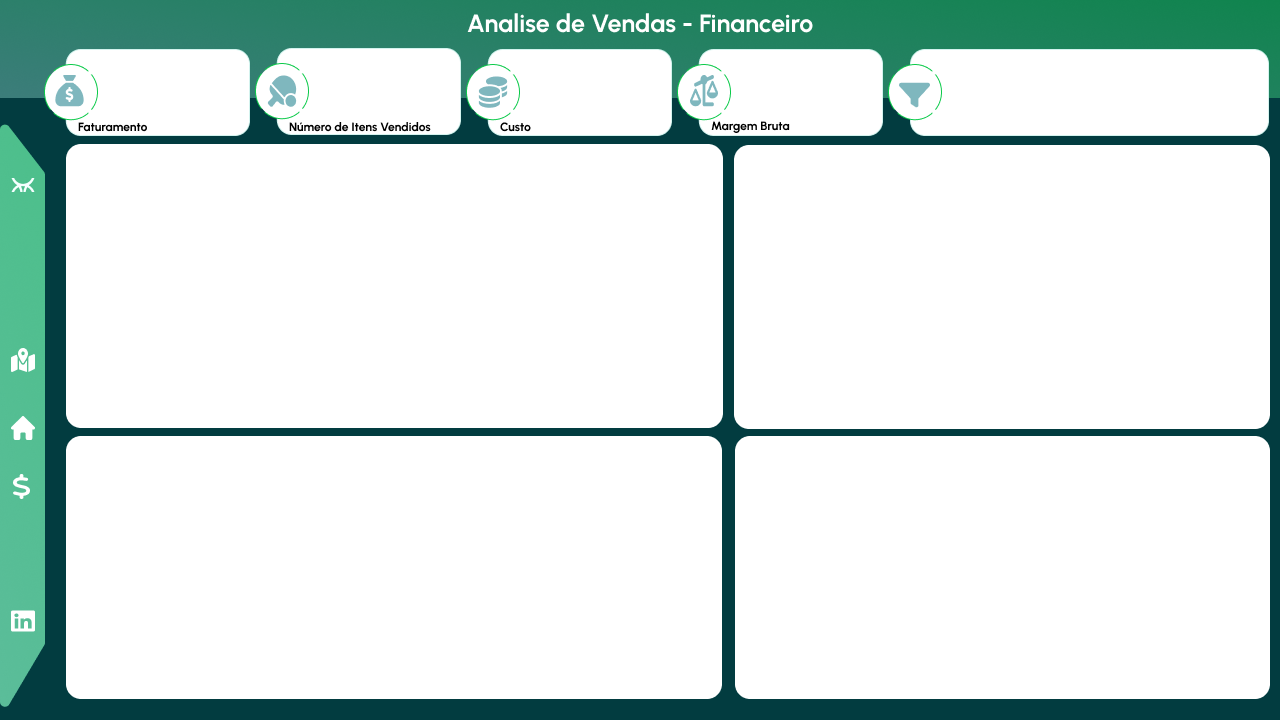

The page's visual inventory and layout, read from the dashboard file:
{"tool":"powerbi","page":{"name":"Financeiro","canvas":[1280,720],"ordinal":1},"visuals":[{"type":"clusteredBarChart","title":"Faturamento por Produto","fields":{"Category":["dProduto.CategoriaProduto.CategoriaNome"],"Y":["Medidas.$ Faturamento"]},"box":[734,435,537,262],"z":0},{"type":"columnChart","title":"Faturamento por Segmento","fields":{"Category":["fVendas.Segmento"],"Y":["Medidas.$ Faturamento"]},"box":[734,145,546,282],"z":1000},{"type":"lineChart","fields":{"Category":["dCalendario.MesAbre"],"Y":["Medidas.$ Faturamento","Medidas.$ Faturamento do Ano Anterior"]},"box":[64,145,661,282],"z":2000},{"type":"slicer","fields":{"Values":["dCalendario.Ano"]},"box":[933.1,45.9,337.9,38],"z":3000},{"type":"card","fields":{"Values":["Medidas.$ Faturamento"]},"box":[84,46,165,76],"z":4000},{"type":"card","fields":{"Values":["Medidas.# Itens Vendidos"]},"box":[286,46,175,76],"z":5000},{"type":"card","fields":{"Values":["Medidas.$ Custo"]},"box":[509,46,164,76],"z":6000},{"type":"card","fields":{"Values":["Medidas.% Margem Bruta"]},"box":[714,51,169,66],"z":7000},{"type":"pivotTable","fields":{"Rows":["dCalendario.NomeMes"],"Columns":["fVendas.Regiao"],"Values":["Medidas.$ Faturamento"]},"box":[64,435,650,262],"z":8000},{"type":"actionButton","box":[0,406.7,44.4,40.6],"z":9000},{"type":"actionButton","box":[0,340,44.4,39.6],"z":10000},{"type":"actionButton","box":[0,598.9,44.4,39.6],"z":11000},{"type":"actionButton","box":[0,161.3,44.4,39.6],"z":12000},{"type":"slicer","fields":{"Values":["fVendas.Regiao"]},"box":[949.9,83.9,312.2,52.6],"z":13000}]}

Visuals, with their boxes on the page's 1280x720 design canvas (x1, y1, x2, y2). These are canvas units, not pixel positions in the 1280x720 screenshot, which may show the page scaled, cropped or inside an application window:
"Faturamento por Produto" clusteredBarChart: x1=734, y1=435, x2=1271, y2=697
"Faturamento por Segmento" columnChart: x1=734, y1=145, x2=1280, y2=427
lineChart - dCalendario.MesAbre x Medidas.$ Faturamento: x1=64, y1=145, x2=725, y2=427
slicer - dCalendario.Ano: x1=933, y1=46, x2=1271, y2=84
card - Medidas.$ Faturamento: x1=84, y1=46, x2=249, y2=122
card - Medidas.# Itens Vendidos: x1=286, y1=46, x2=461, y2=122
card - Medidas.$ Custo: x1=509, y1=46, x2=673, y2=122
card - Medidas.% Margem Bruta: x1=714, y1=51, x2=883, y2=117
pivotTable - dCalendario.NomeMes x fVendas.Regiao: x1=64, y1=435, x2=714, y2=697
actionButton: x1=0, y1=407, x2=44, y2=447
actionButton: x1=0, y1=340, x2=44, y2=380
actionButton: x1=0, y1=599, x2=44, y2=638
actionButton: x1=0, y1=161, x2=44, y2=201
slicer - fVendas.Regiao: x1=950, y1=84, x2=1262, y2=136
